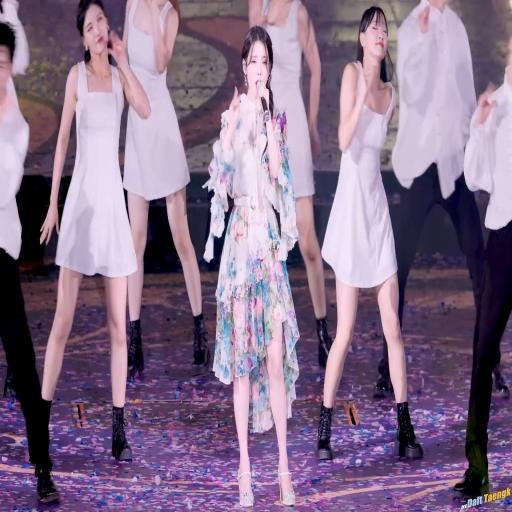IU: (242, 24, 273, 97)
